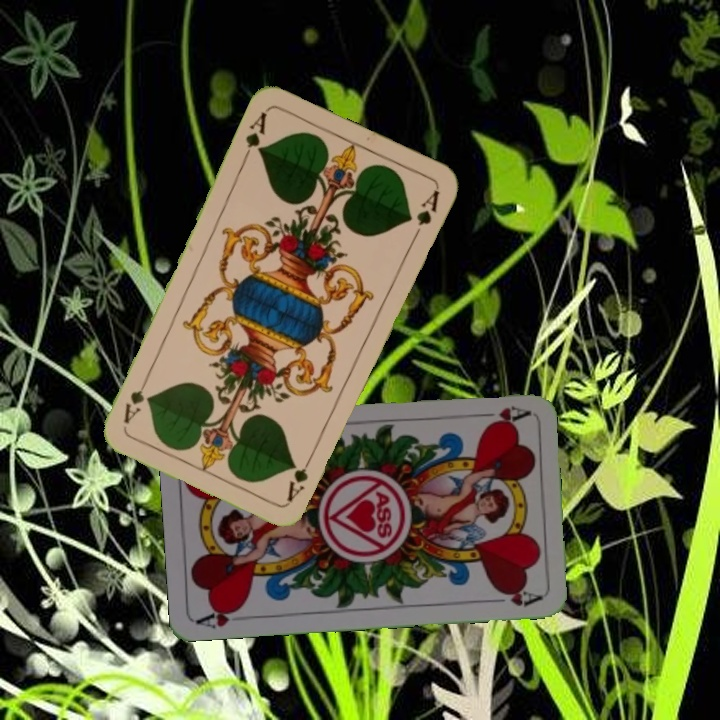GA: (238, 107, 270, 164), (283, 449, 316, 504)
HA: (471, 401, 530, 427), (194, 602, 246, 631)
